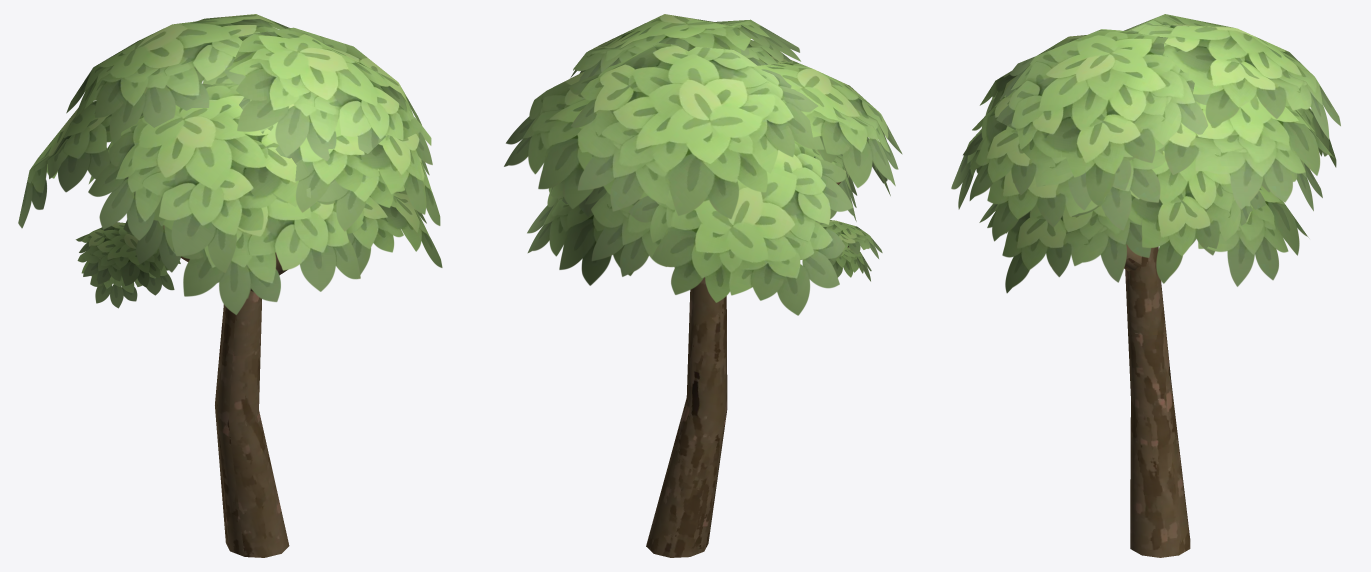
The model's file is street-tree-1.glb.
3 views of the same model, side by side, from view 1: azimuth 30°, elevation 25°; view 2: azimuth 150°, elevation 25°; view 3: azimuth 270°, elevation 25° (orthographic).
Visible parts, largest first — view 1: Tree_1; view 2: Tree_1; view 3: Tree_1.
Boxes of the visible parts, x1,y1,x2,y2 form: Tree_1: (18, 14, 442, 557); Tree_1: (504, 14, 902, 557); Tree_1: (951, 14, 1340, 557).
Bounding box in the file's own units: 4.14 × 5.54 × 4.13.
Materials: 2 (2 with a texture image).
